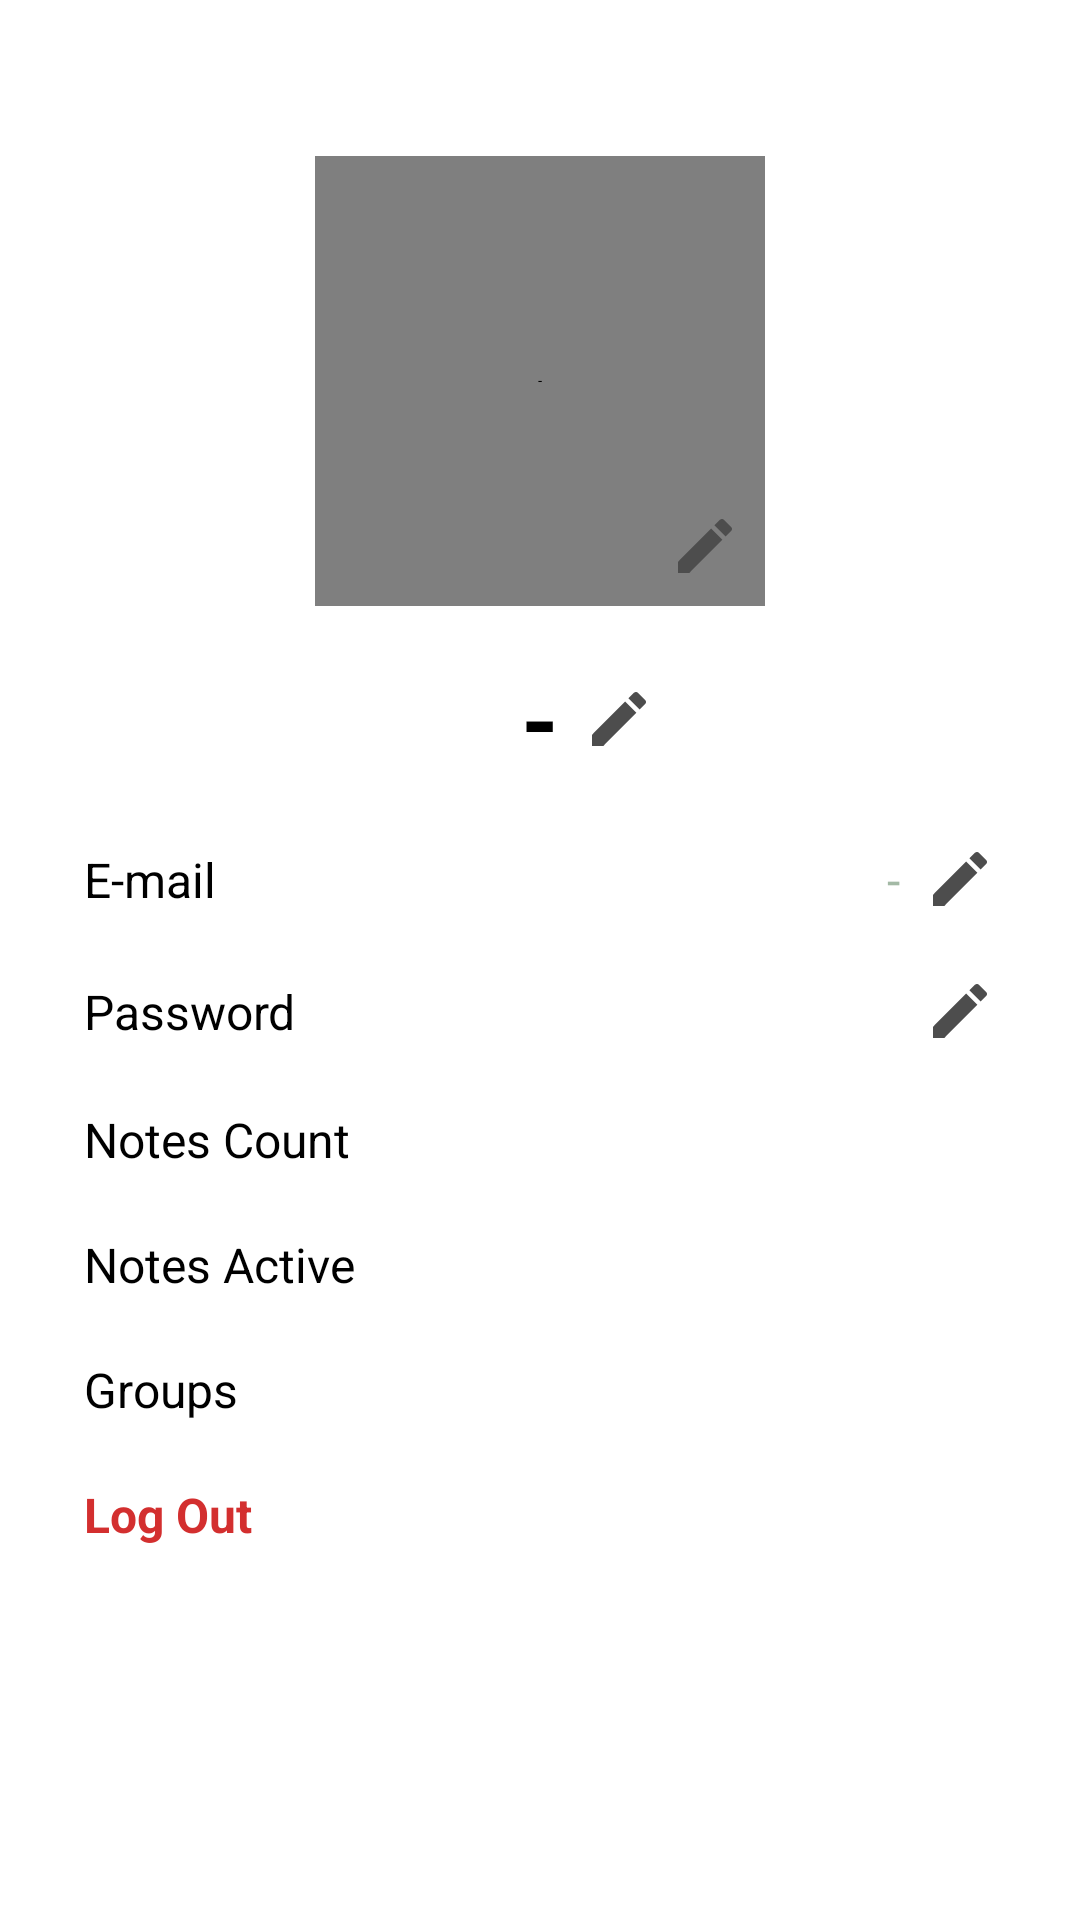

Icons on this 1080px×1920px Android screen, each with the point to tap as point (x, y):
edit: point (705, 546), point (619, 719)
